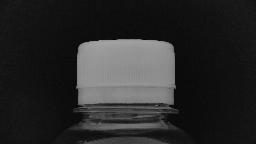Good Cap: (66, 36, 186, 118)
